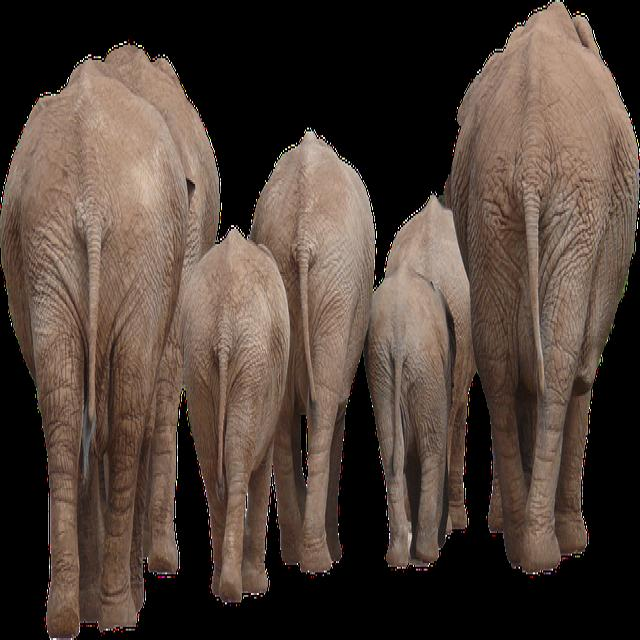elephant: (445, 2, 639, 574), (1, 61, 189, 638), (250, 131, 375, 572), (364, 197, 475, 567), (182, 230, 290, 603)
